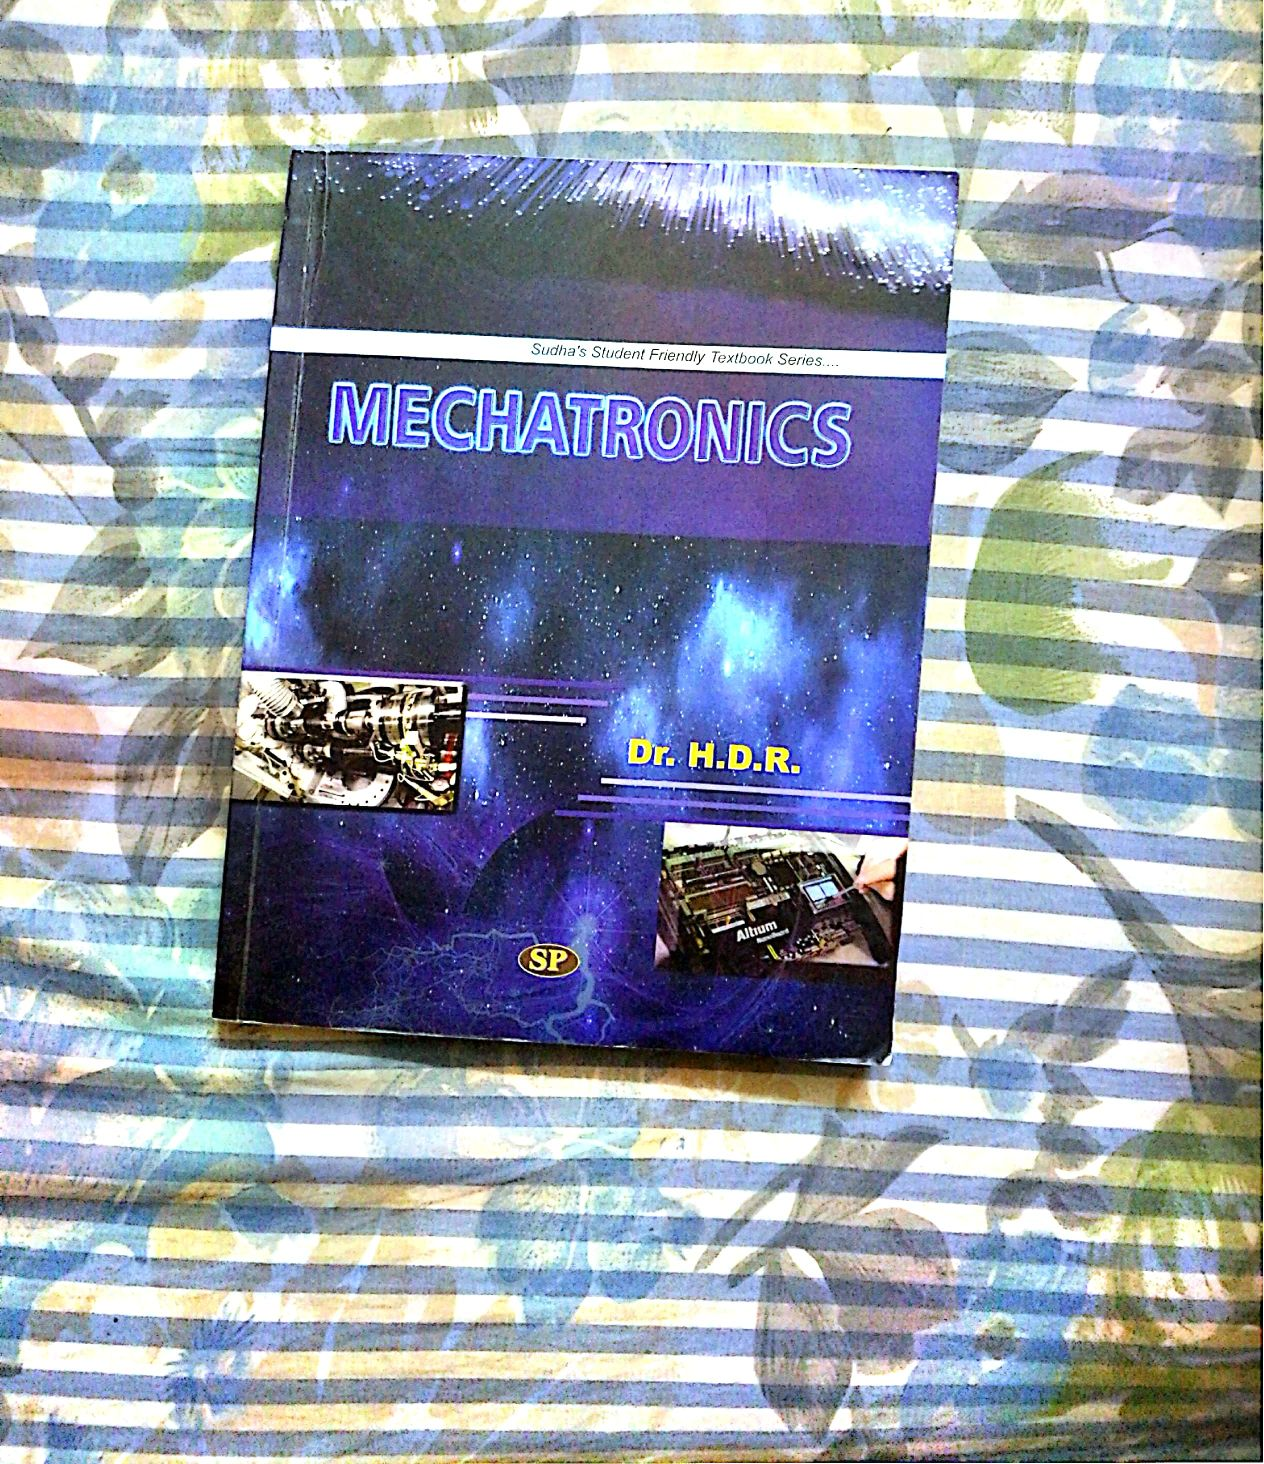mechatronics: (202, 153, 917, 1115)
